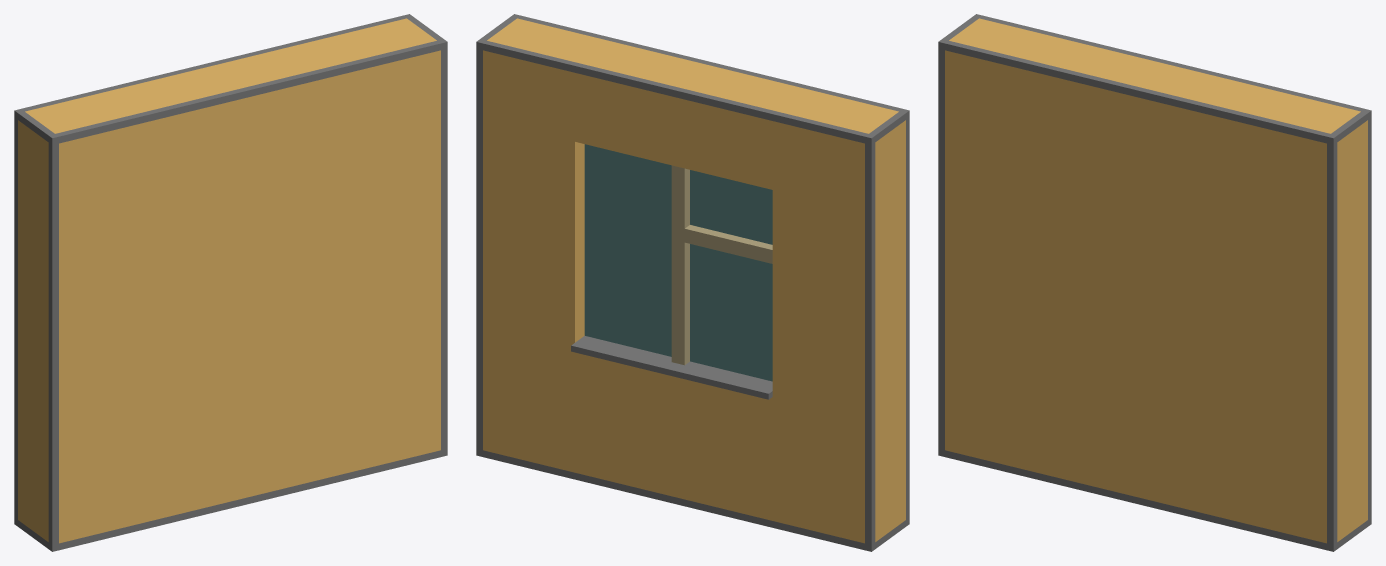
The model's file is house_window.fbx.
3 renders of one model, left to right at view 1: azimuth 30°, elevation 25°; view 2: azimuth 150°, elevation 25°; view 3: azimuth 330°, elevation 25°, orthographic.
Visible parts, largest first — view 1: house_window; view 2: house_window; view 3: house_window.
Part boxes in pixels (box(x1,y1,x2,y2)): house_window: box(14, 14, 447, 551); house_window: box(476, 14, 909, 551); house_window: box(938, 14, 1371, 551).
Bounding box in the file's own units: 3 × 3 × 0.5526.
